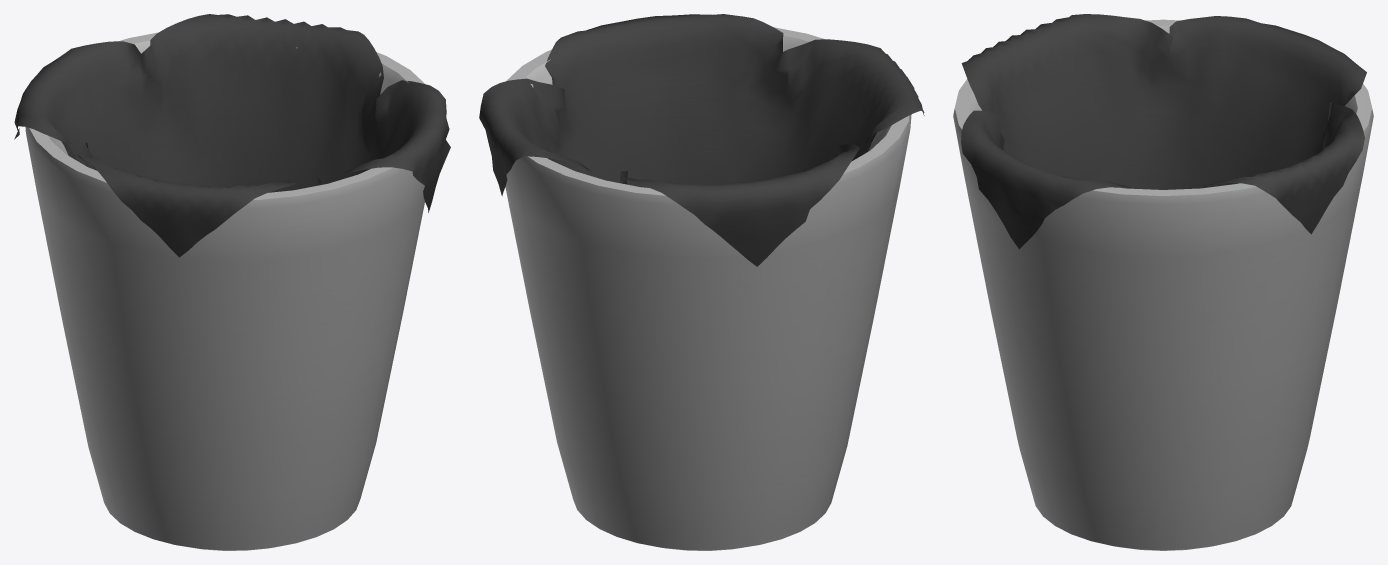
The model's file is Papelera.fbx.
The picture shows the model from 3 angles, left to right: view 1: azimuth 30°, elevation 25°; view 2: azimuth 150°, elevation 25°; view 3: azimuth 270°, elevation 25°; orthographic projection.
Parts seen in each view (by area): view 1: Cubo, Bolsa; view 2: Cubo, Bolsa; view 3: Cubo, Bolsa.
Boxes of the visible parts, x1,y1,x2,y2 form: Cubo: [25, 32, 425, 550]; Bolsa: [14, 14, 450, 257]; Cubo: [505, 27, 911, 550]; Bolsa: [479, 14, 924, 266]; Cubo: [953, 19, 1373, 550]; Bolsa: [961, 14, 1366, 249].
Bounding box in the file's own units: 27.88 × 29.82 × 27.88.
